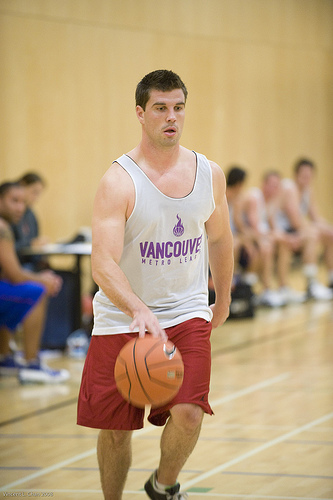basketball: (116, 335, 184, 410)
